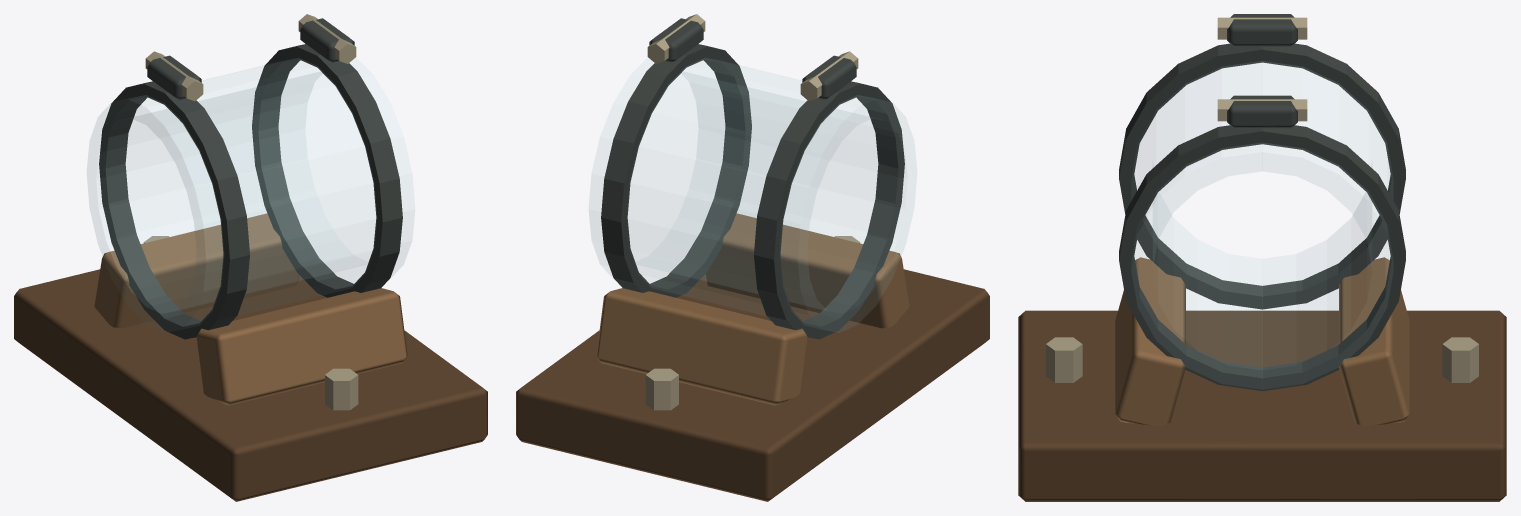
The model's file is PipeJoint.glb.
The picture shows the model from 3 angles, left to right: view 1: azimuth 30°, elevation 25°; view 2: azimuth 150°, elevation 25°; view 3: azimuth 270°, elevation 25°; orthographic projection. The views are drawn at different scales.
Parts seen in each view (by area): view 1: PipeJoint; view 2: PipeJoint; view 3: PipeJoint.
Part boxes in pixels (bbox=[...]): PipeJoint: bbox=[14, 14, 487, 501]; PipeJoint: bbox=[516, 14, 989, 501]; PipeJoint: bbox=[1018, 14, 1506, 501].
Bounding box in the file's own units: 0.32 × 0.41 × 0.48.
